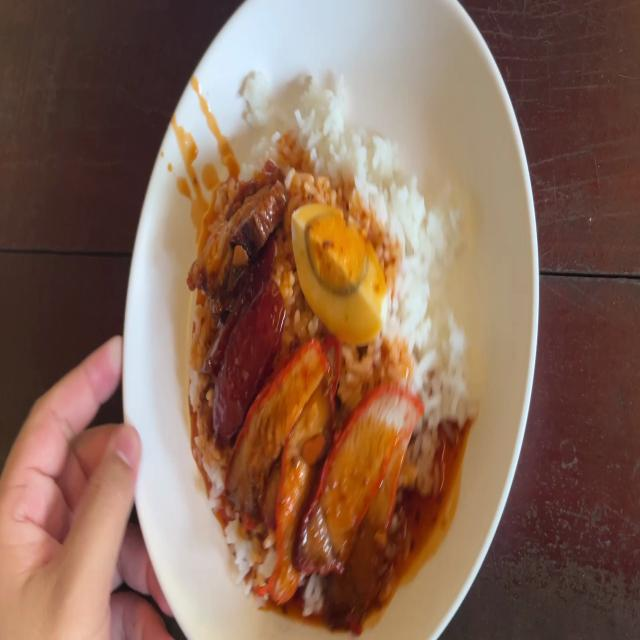red_pork_and_crispy_pork: (299, 212, 381, 341)
stir_fried_basil: (197, 166, 280, 283)
